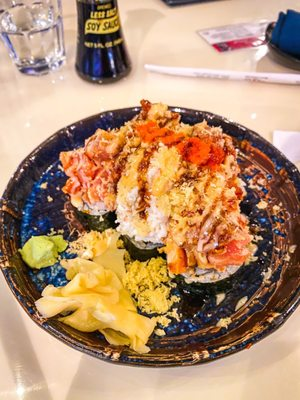pizza: (0, 0, 66, 74)
